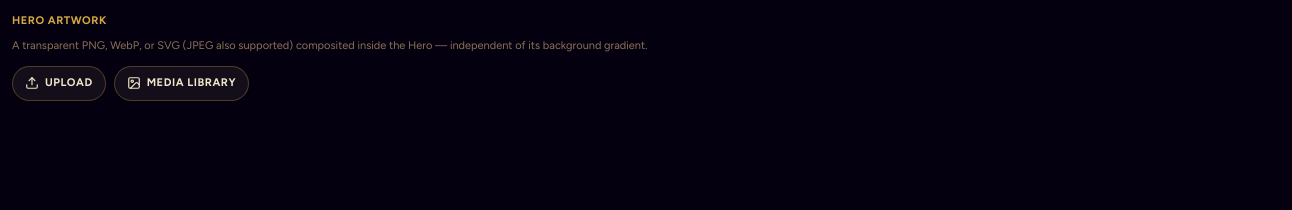
it: Media Library shows an empty state when no assets exist yet
Step 1. Click the button with test id "hero-artwork-browse-library" → x=181, y=83, box 114,66 -> 249,100
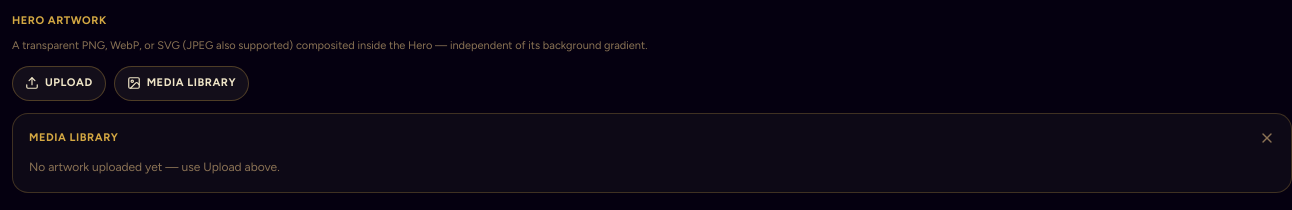
Result: the text "No artwork uploaded yet — use Upload above." is shown at 29,160 -> 280,174
